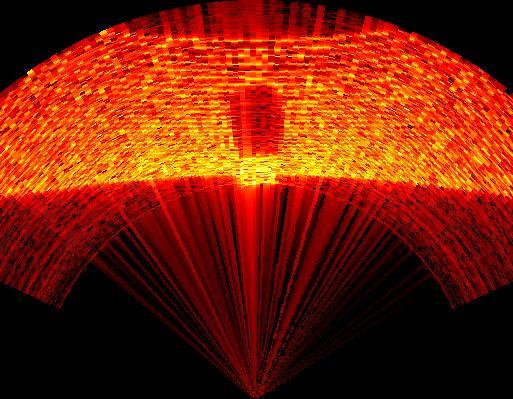box_crate: (223, 88, 292, 190)
